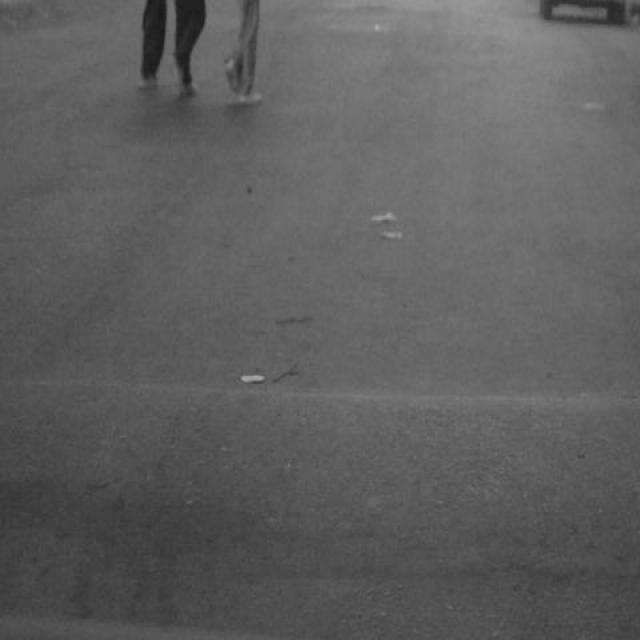Unmarked Bump: (0, 375, 640, 581)
